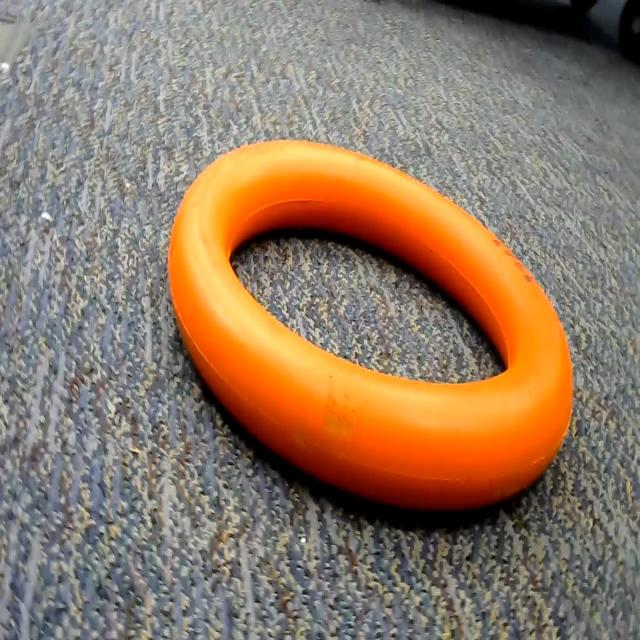note: (173, 130, 593, 540)
